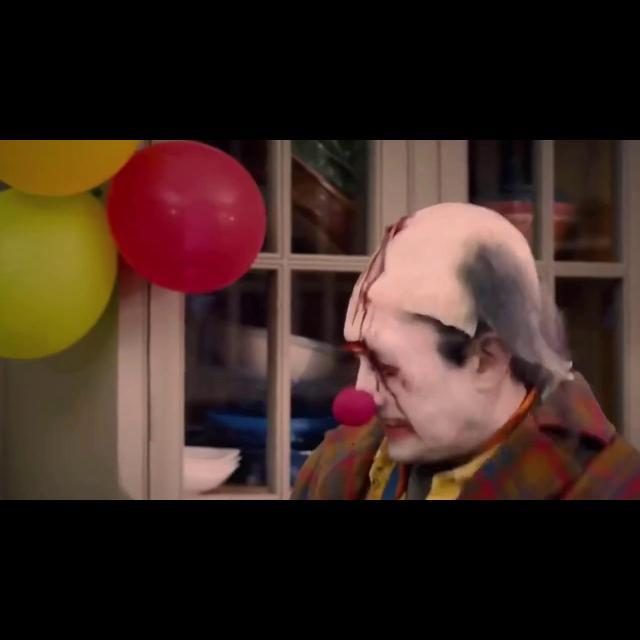blood: (344, 216, 410, 390)
